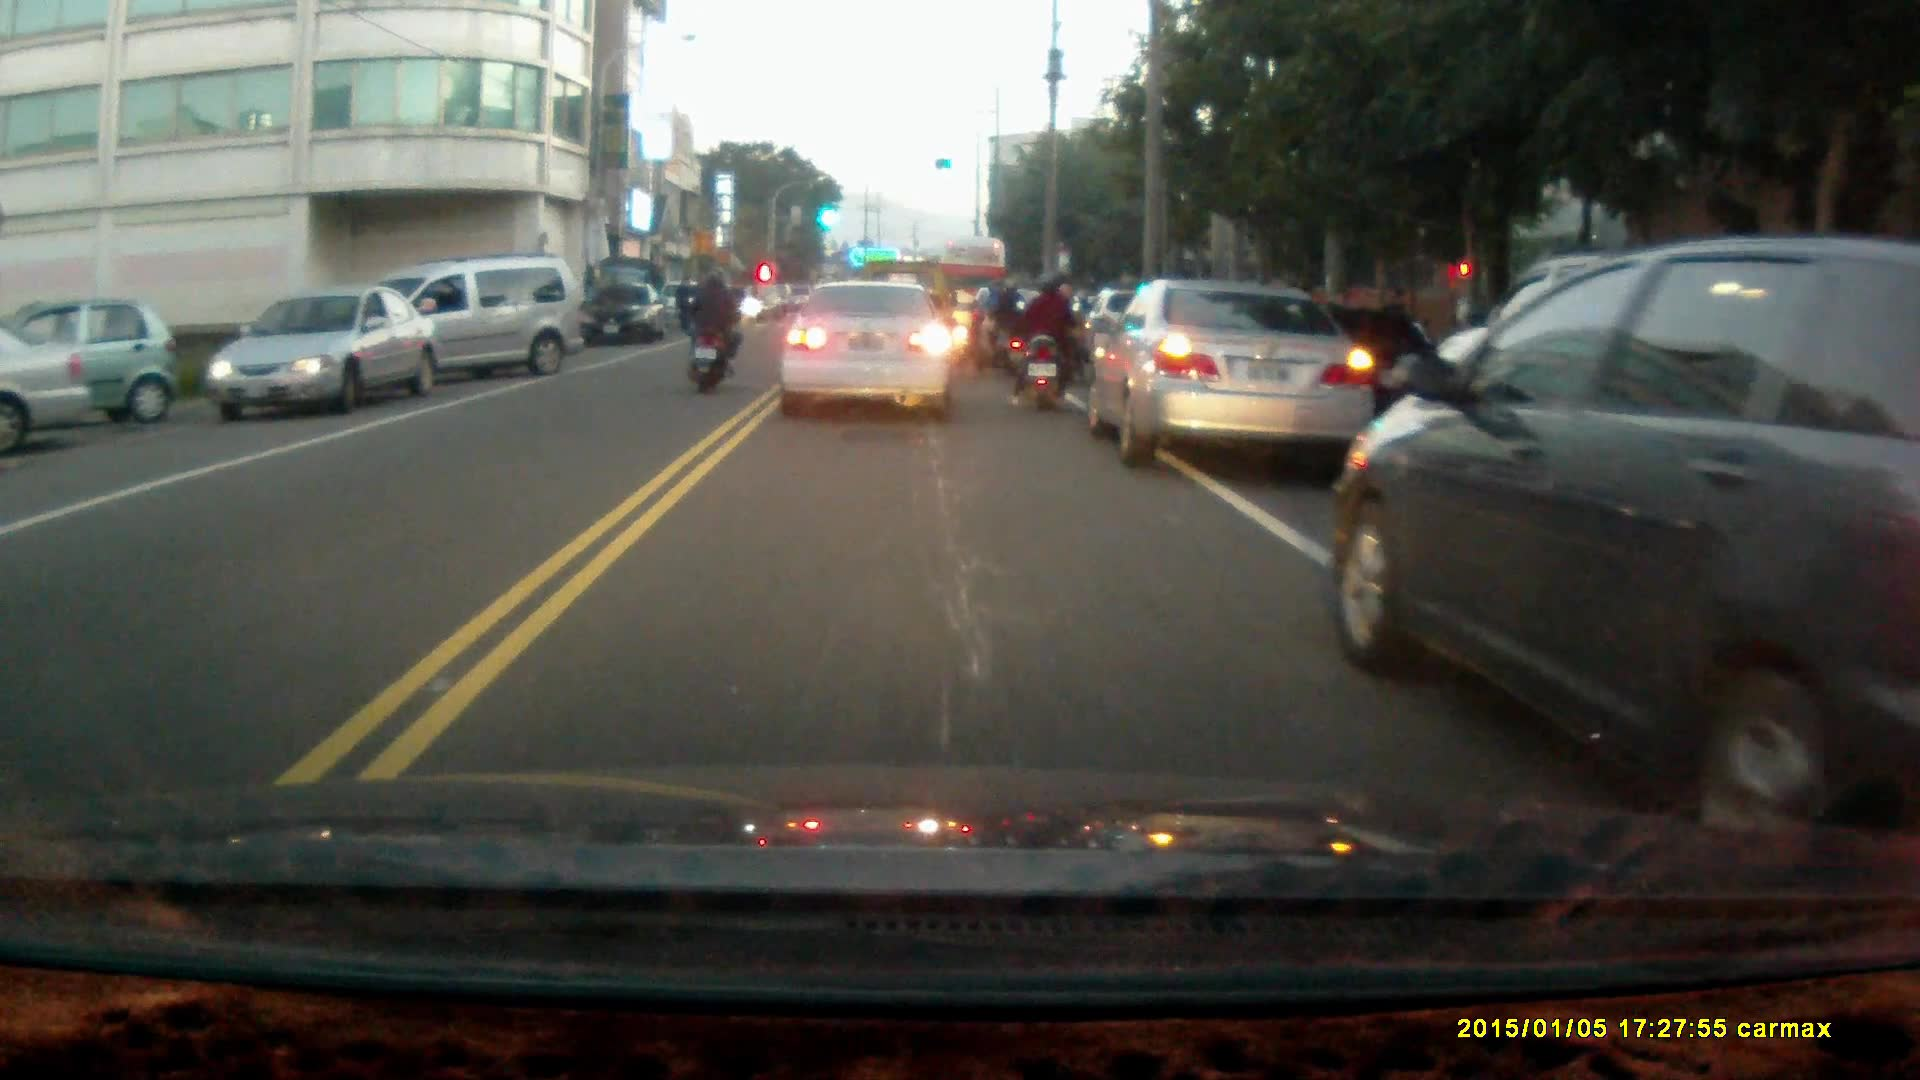pedestrian: (672, 276, 696, 335)
rider: (1009, 268, 1083, 414), (683, 271, 741, 392), (967, 272, 1024, 378)
vehicle: (1321, 232, 1920, 838), (1080, 274, 1376, 467), (321, 257, 582, 400), (210, 290, 439, 423), (1, 296, 183, 430), (785, 285, 956, 420), (1, 332, 95, 458), (574, 283, 669, 350)
